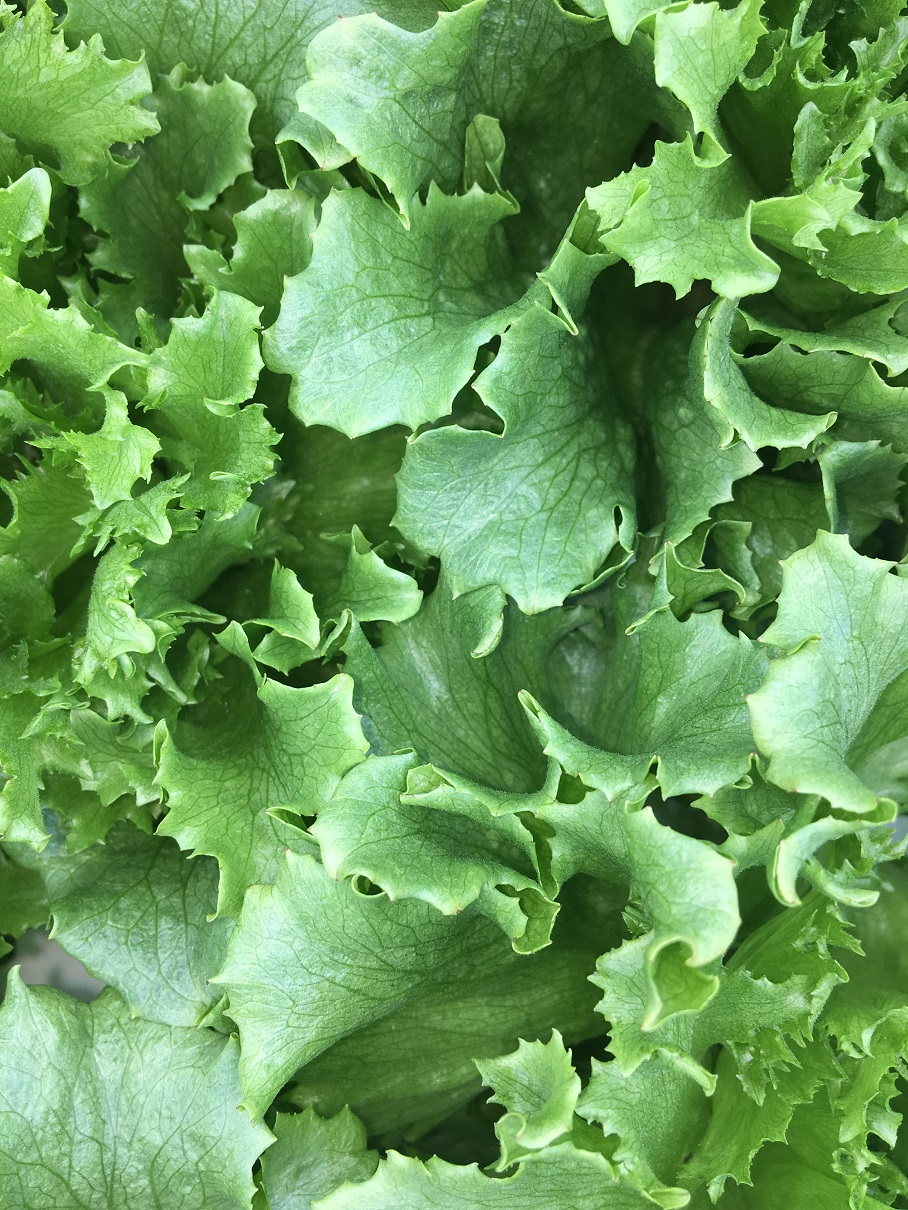tipburn: (190, 958, 238, 1005), (391, 774, 435, 819), (649, 526, 691, 569), (773, 768, 815, 810), (442, 890, 482, 932), (265, 832, 306, 872), (295, 798, 336, 838), (726, 670, 766, 711), (733, 734, 774, 771), (559, 313, 597, 350), (306, 149, 337, 187), (500, 924, 533, 958), (696, 385, 727, 418), (380, 887, 413, 917), (360, 865, 395, 893), (782, 884, 810, 913), (323, 7, 350, 36), (649, 742, 672, 768), (321, 863, 344, 887)
